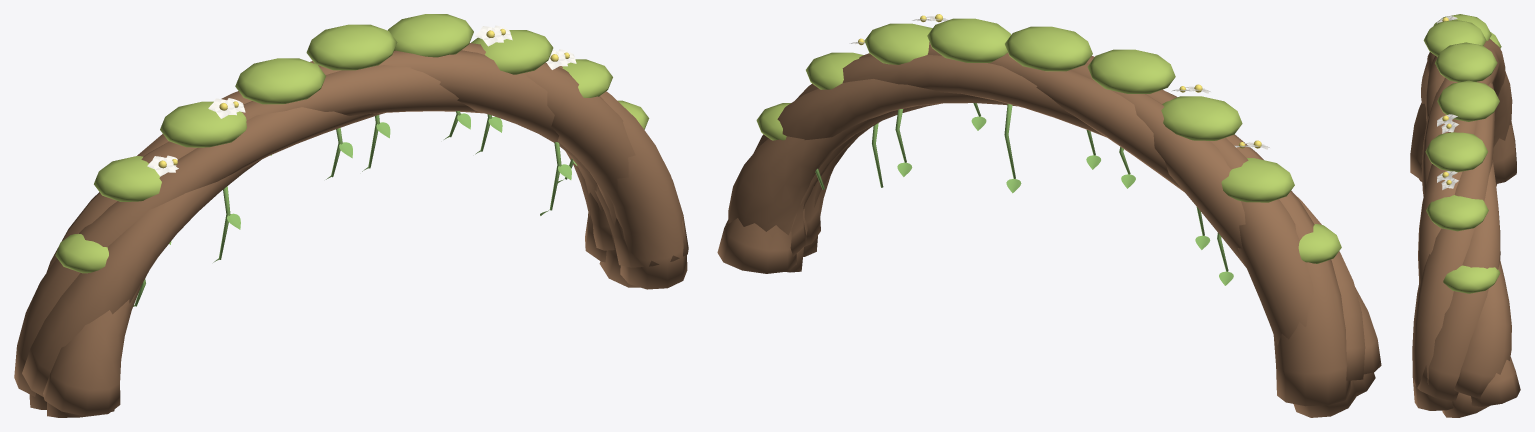
Rendered from root_arch_v2.glb.
3 renders of one model, left to right at view 1: azimuth 30°, elevation 25°; view 2: azimuth 150°, elevation 25°; view 3: azimuth 270°, elevation 25°, orthographic. The views are drawn at different scales.
Visible parts, largest first — view 1: SM_Forest_RootArch_V2; view 2: SM_Forest_RootArch_V2; view 3: SM_Forest_RootArch_V2.
Boxes of the visible parts, bbox=[...] form: SM_Forest_RootArch_V2: bbox=[14, 14, 688, 417]; SM_Forest_RootArch_V2: bbox=[717, 14, 1381, 417]; SM_Forest_RootArch_V2: bbox=[1410, 14, 1520, 417].
Size of the model in its own units: 10.57 by 4.94 by 1.97.
